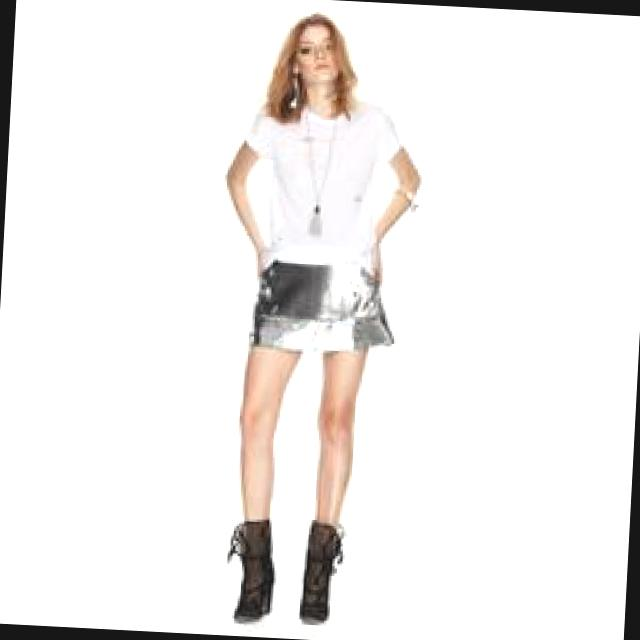Tshirt: (236, 96, 407, 272)
skirt: (245, 248, 400, 354)
